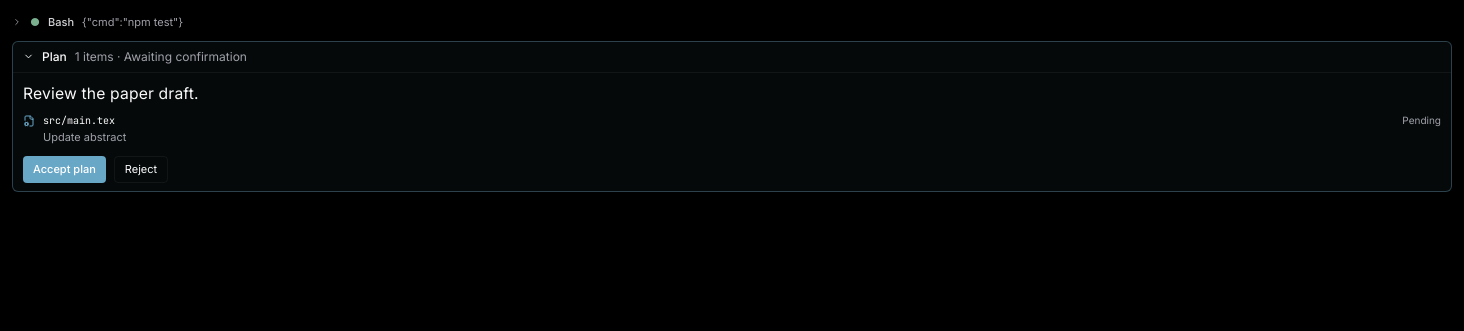
it: ChatMessage › renders plan and tool controls as accessible focusable actions
Click the button "● Bash {\"cmd\":\"npm test\"}".
click(132, 22)  # box [12,12,1452,32]
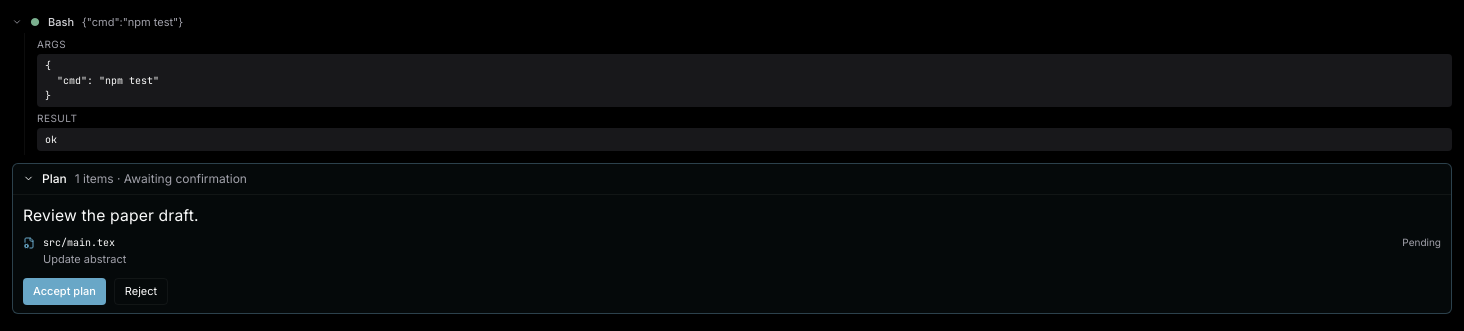
Result: the button "● Bash {\"cmd\":\"npm test\"}" is expanded at [12,12,1452,32]
